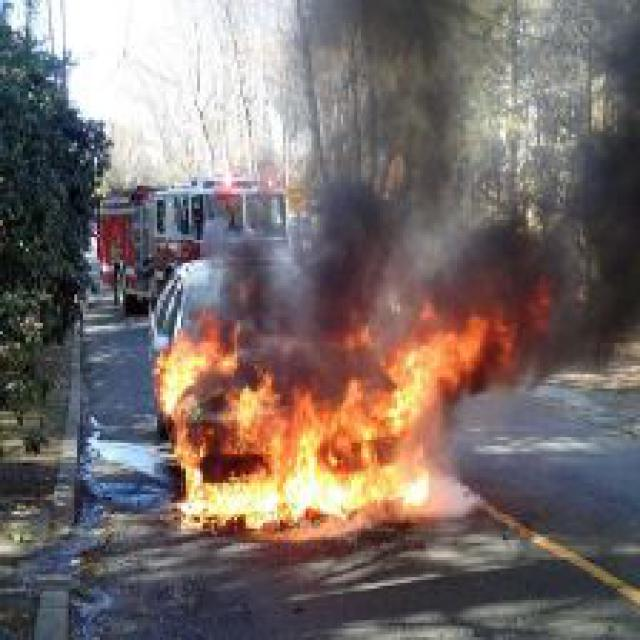fire: (140, 314, 529, 537)
